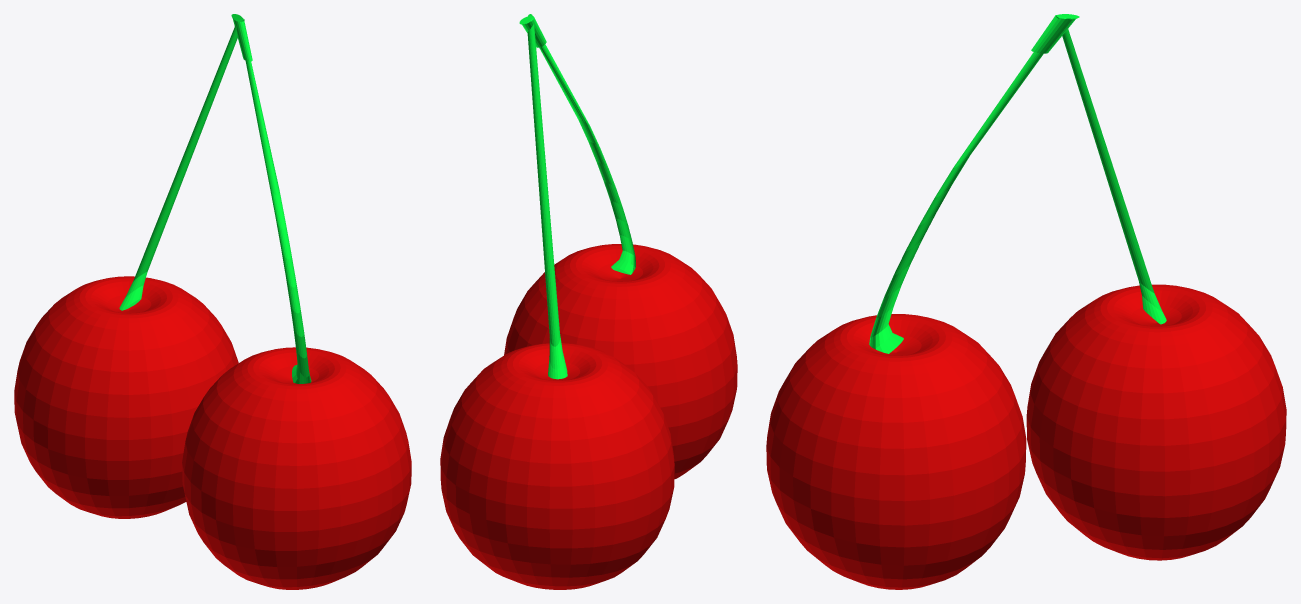
Rendered from Cherry-transformed.glb.
3 renders of one model, left to right at view 1: azimuth 30°, elevation 25°; view 2: azimuth 150°, elevation 25°; view 3: azimuth 270°, elevation 25°, orthographic. The views are drawn at different scales.
Visible parts, largest first — view 1: Sphere001, Cylinder001; view 2: Sphere001, Cylinder001; view 3: Sphere001, Cylinder001.
Part boxes in pixels (x1=…): Sphere001: x1=14, y1=276, x2=411, y2=589; Cylinder001: x1=119, y1=14, x2=311, y2=383; Sphere001: x1=440, y1=244, x2=737, y2=589; Cylinder001: x1=519, y1=14, x2=635, y2=379; Sphere001: x1=766, y1=284, x2=1286, y2=589; Cylinder001: x1=869, y1=14, x2=1166, y2=353.
Size of the model in its own units: 277537 by 530944 by 438085.
